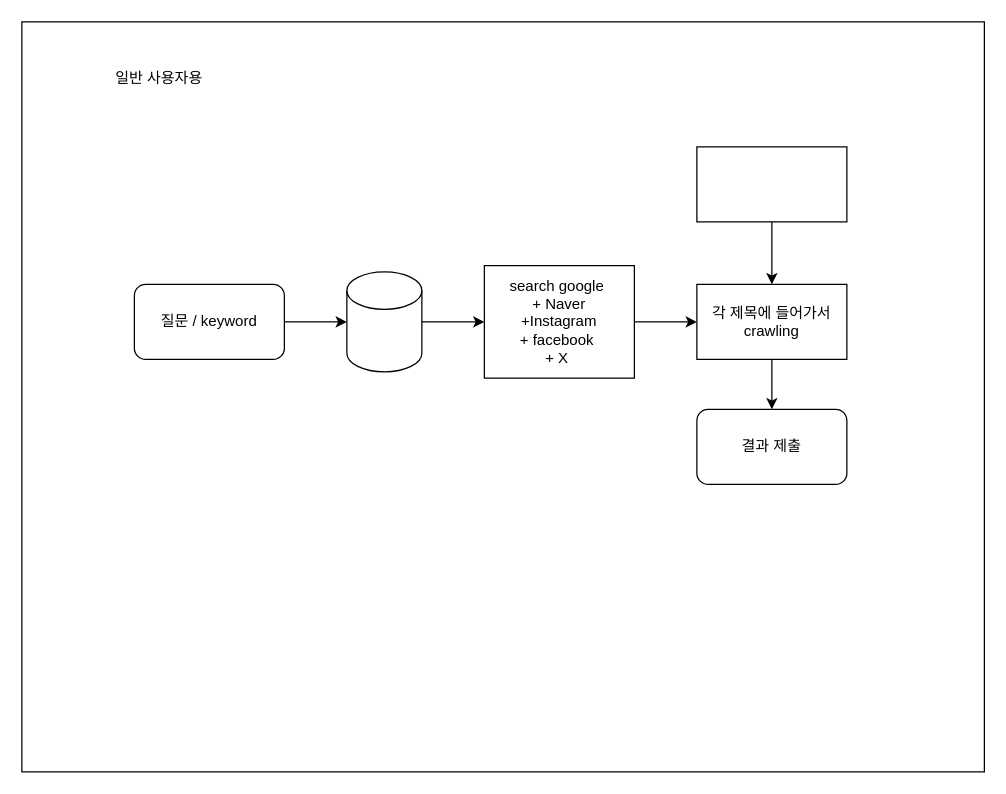
Image size: 1006x794. Some labels were removed from this diagram. The shapes that lost their labels are listed below. From the top down, each one's centre as x and y in pixels, then its label:
At point (771, 184): "RNN 요약".
At point (384, 321): "database".
